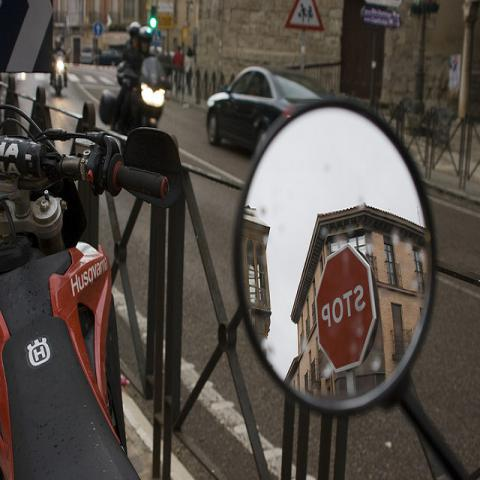car: (205, 66, 337, 152), (158, 51, 176, 90), (96, 49, 122, 65)
motorcycle: (1, 100, 171, 475), (100, 57, 167, 128), (50, 49, 72, 98)
